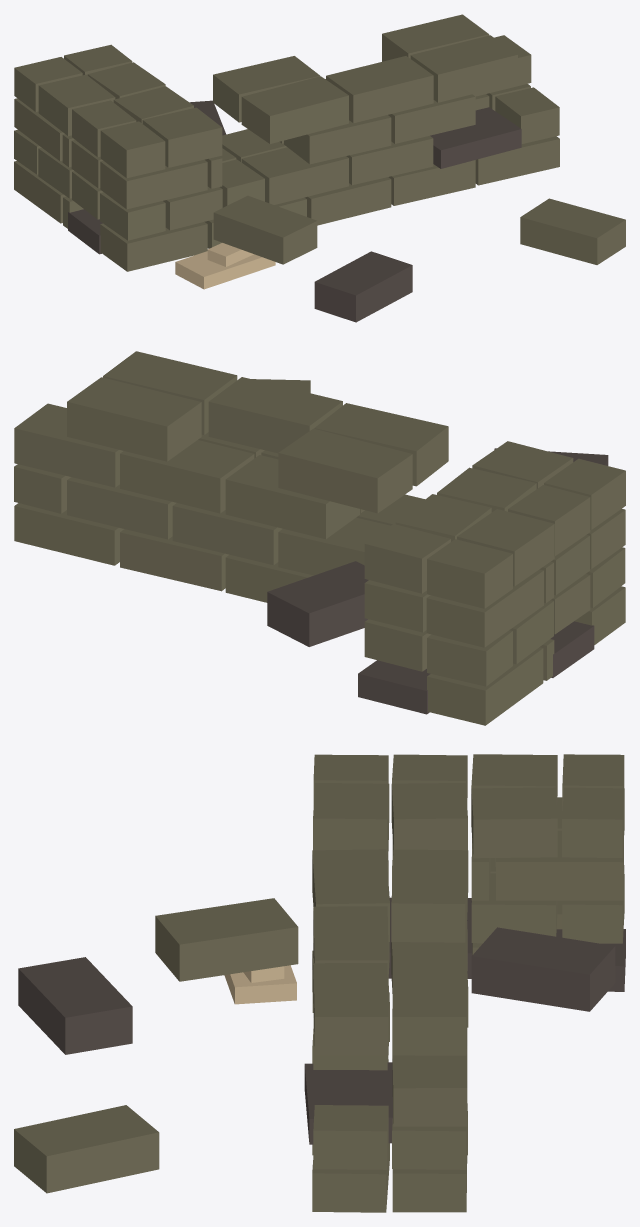
The model's file is SM_SacosRemate_v0_Recto_e1_Danado_LOD0.fbx.
The picture shows the model from 3 angles, top to bottom: view 1: azimuth 30°, elevation 25°; view 2: azimuth 150°, elevation 25°; view 3: azimuth 270°, elevation 25°; orthographic projection. The views are drawn at different scales.
Visible parts, largest first — view 1: SM_sacos_piezas_v21_LOD0; view 2: SM_sacos_piezas_v21_LOD0; view 3: SM_sacos_piezas_v21_LOD0.
Boxes of the visible parts, x1=… form: SM_sacos_piezas_v21_LOD0: x1=14, y1=14, x2=625, y2=322; SM_sacos_piezas_v21_LOD0: x1=14, y1=351, x2=625, y2=725; SM_sacos_piezas_v21_LOD0: x1=14, y1=754, x2=625, y2=1212.
Size of the model in its own units: 4.38 by 1.18 by 3.88.
